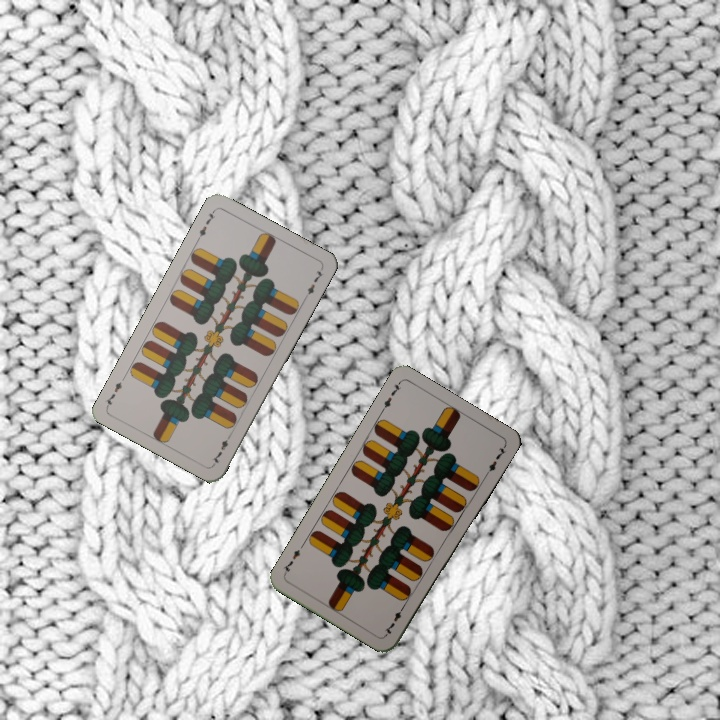E7: (381, 601, 408, 638), (208, 430, 234, 467), (377, 378, 403, 415), (193, 206, 218, 244)
